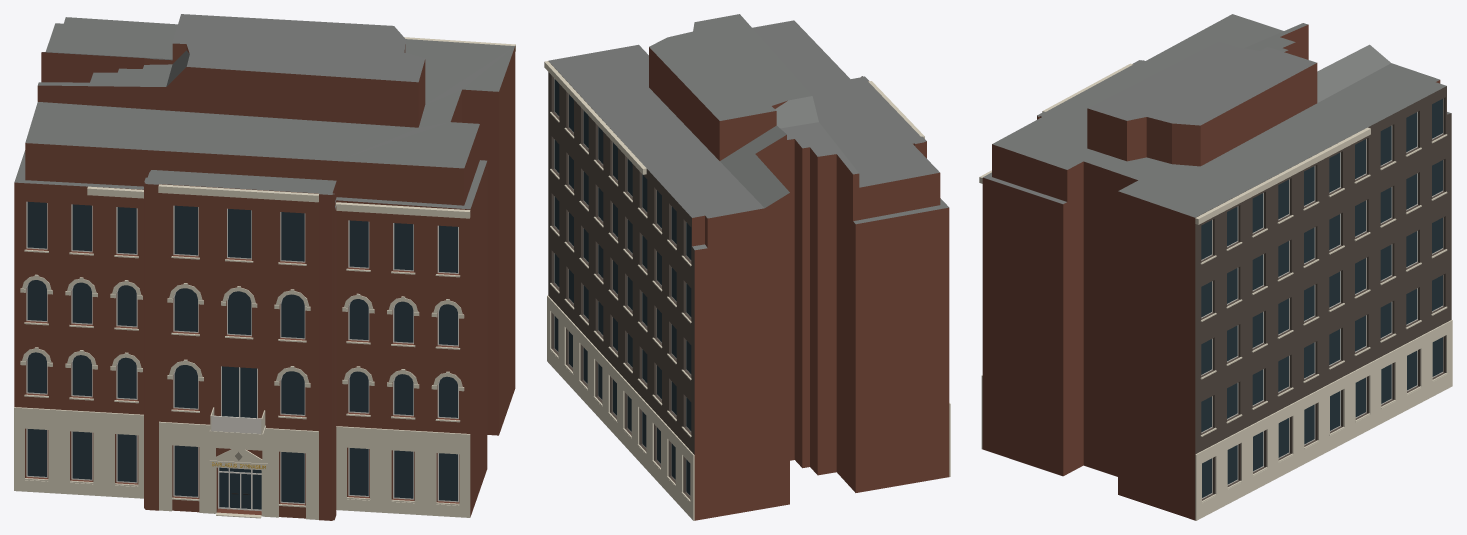
File: recipe-large-barlaeus.glb
3 renders of one model, left to right at view 1: azimuth 30°, elevation 25°; view 2: azimuth 150°, elevation 25°; view 3: azimuth 270°, elevation 25°, orthographic. The views are drawn at different scales.
Parts seen in each view (by area): view 1: barlaeus; view 2: barlaeus; view 3: barlaeus.
Part boxes in pixels (x1,y1,x2,y2): barlaeus: (14,14,515,520); barlaeus: (544,14,950,520); barlaeus: (979,14,1452,520).
Bounding box in the file's own units: 32.96 × 25.43 × 31.68.
